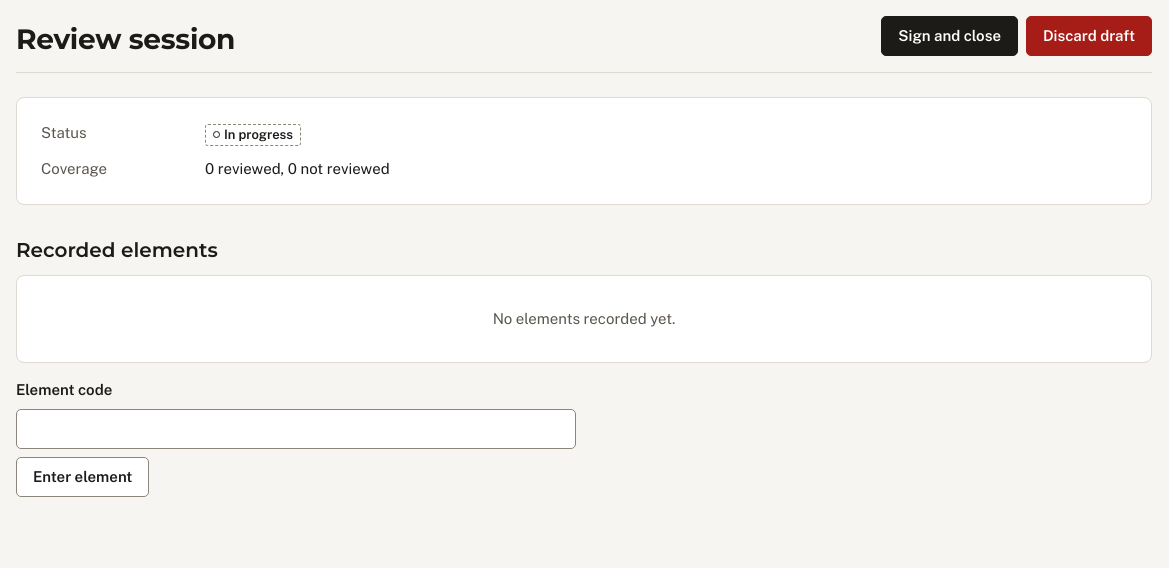
it: ReviewSessionDetailPage › shows a validation error and does not navigate on an empty code submit
The image size is (1169, 568).
Click the button with test id "review-session-detail-code-submit": [83, 476] box x1=16 y1=456 x2=149 y2=496
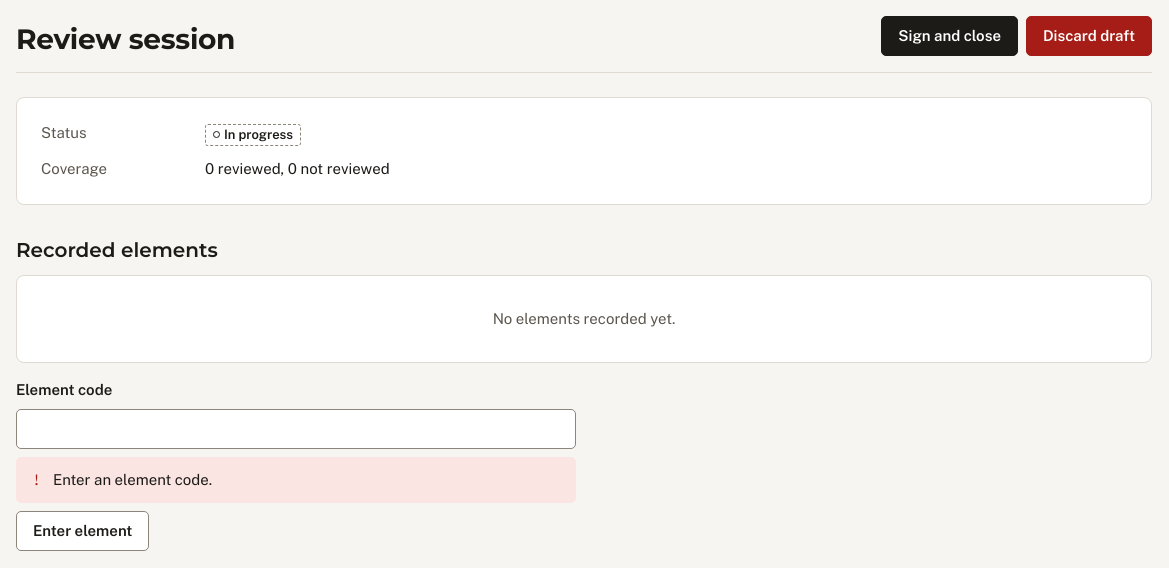
Expected: the message "! Enter an element code." is shown, x1=16 y1=456 x2=576 y2=502
